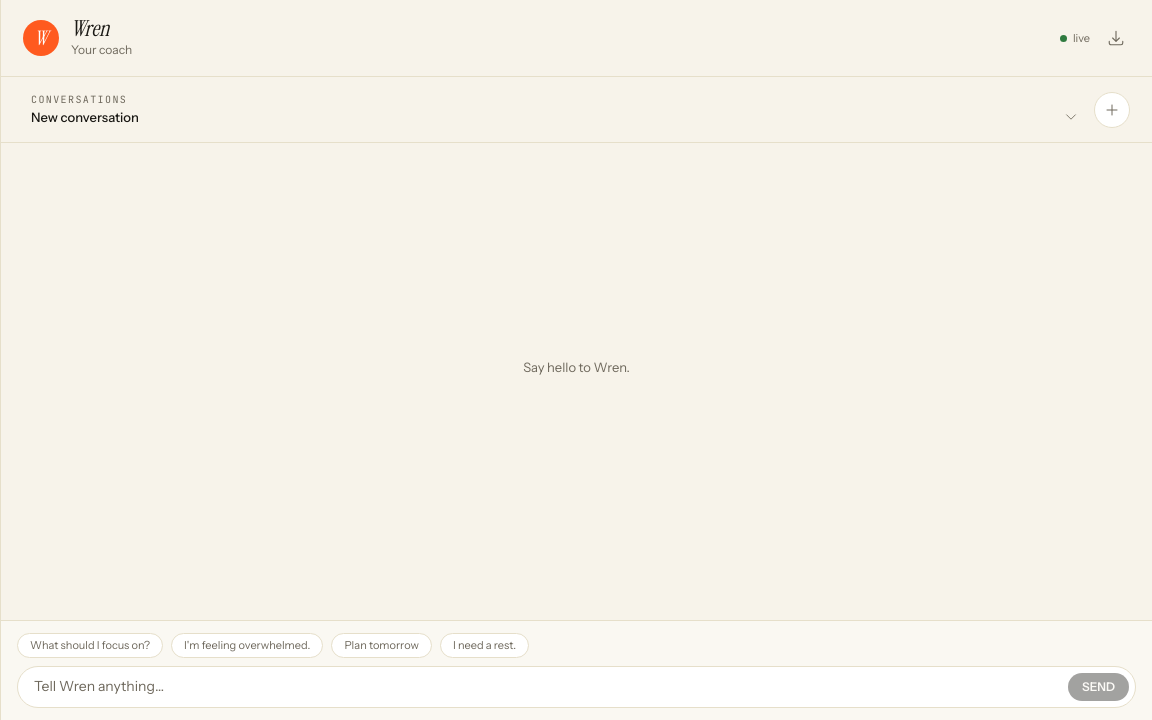
Test: WrenPanel › send button › becomes enabled when draft has text and not sending
The width and height of the screenshot is (1152, 720).
Type "hello wren" into the field with class "wren-panel__input" at (547,687), box [34,678,1060,696]
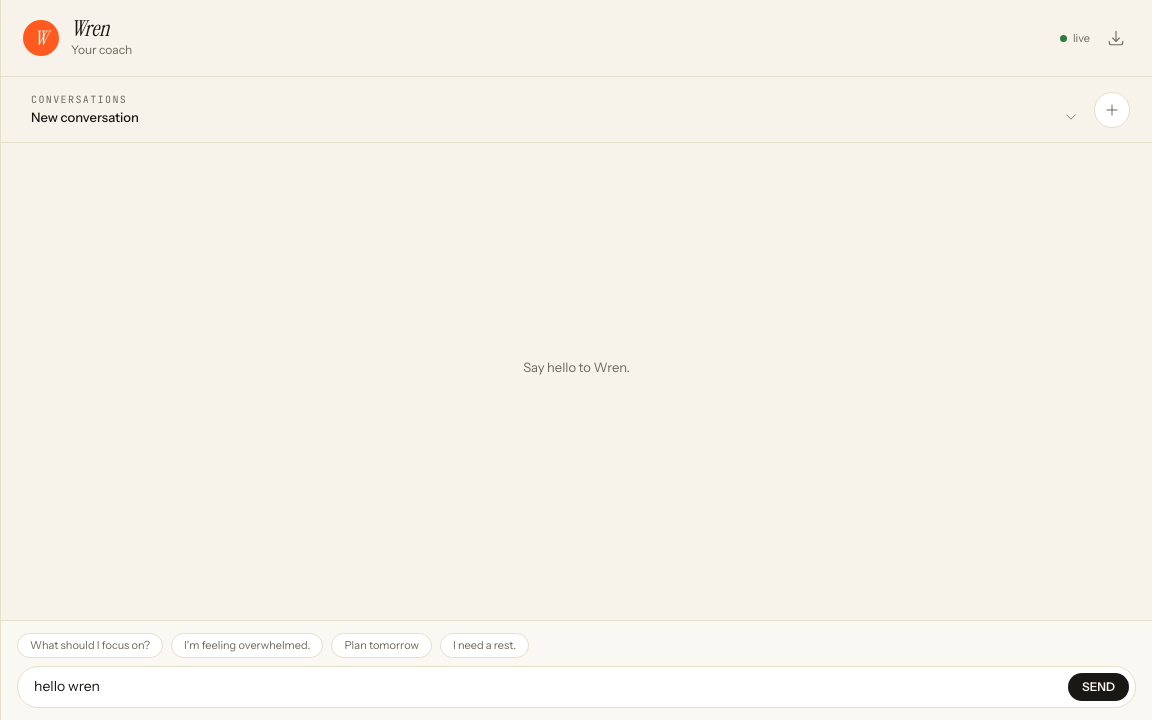
Now the button with class "wren-panel__send" is enabled, box [1068,673,1129,701]
